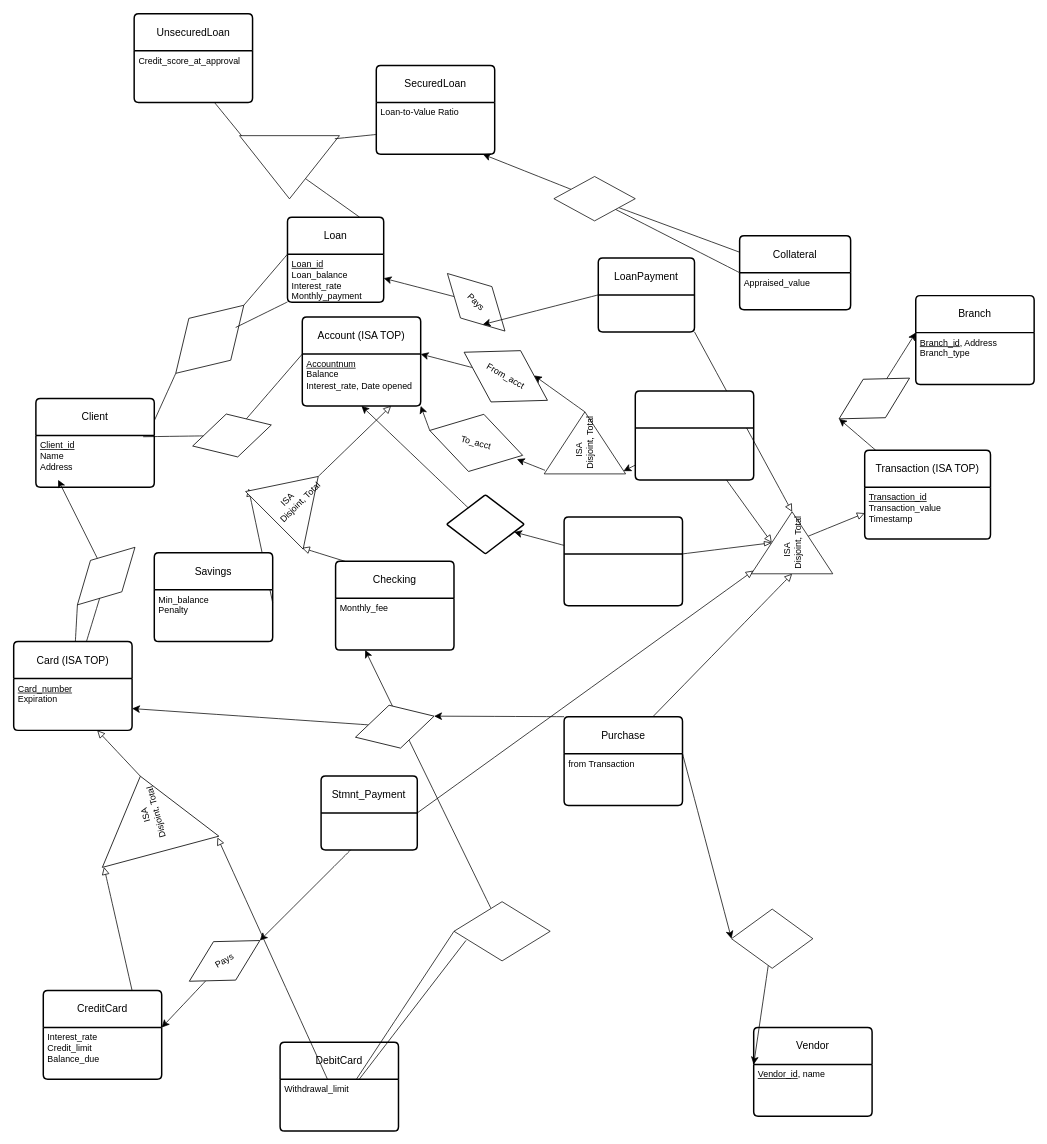
The diagram is 1047 pixels wide and 1144 high, and some of its shapes have lost their labels. Each missing label, with the centre of its shape:
Accesses: (x=501, y=931)
Account_Activity: (x=623, y=561)
At: (x=772, y=938)
Belongs To: (x=106, y=576)
Borrows: (x=209, y=338)
Involves: (x=485, y=524)
ISA Disjoint,Full: (x=289, y=167)
Made With: (x=394, y=726)
Occurs at: (x=874, y=398)
Owns: (x=231, y=435)
Secures: (x=594, y=198)
Transfer: (x=694, y=435)
